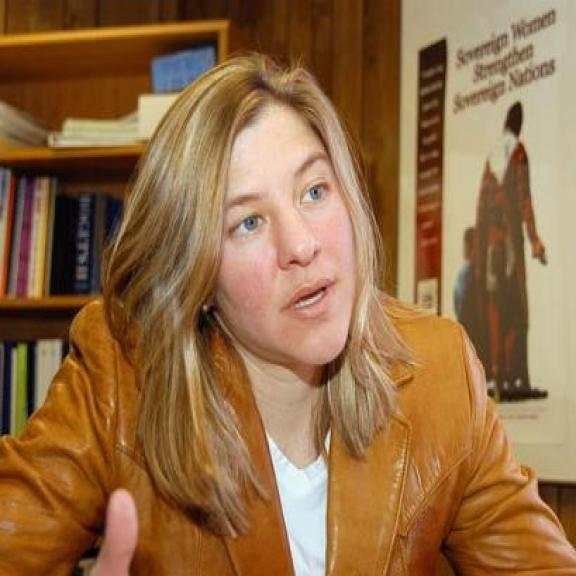face: (184, 90, 374, 370)
